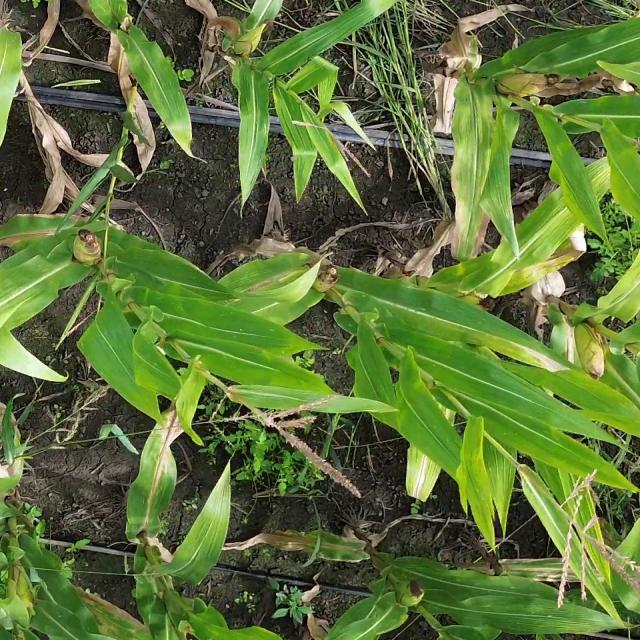northern-leaf-blight: (118, 391, 192, 534), (432, 132, 504, 278), (0, 193, 119, 267), (69, 573, 168, 640)
southern-leaf-blight: (216, 247, 322, 377), (440, 566, 602, 640), (348, 282, 482, 369)
